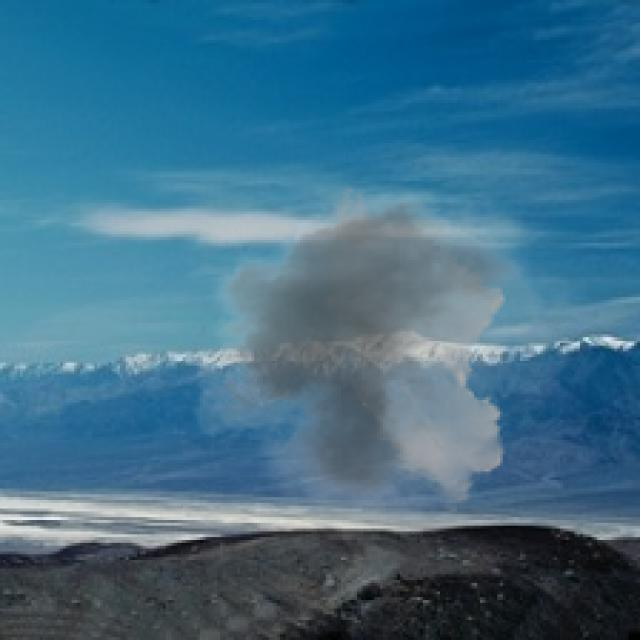smoke: (174, 174, 589, 526)
